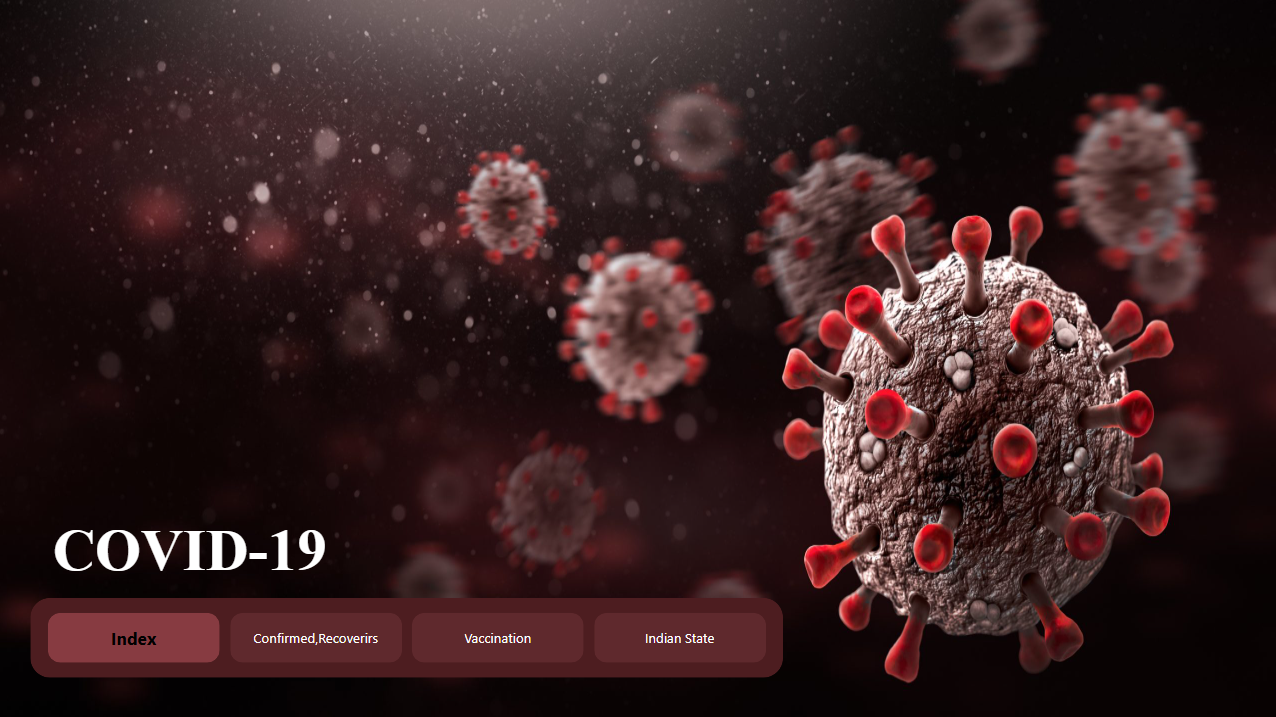

The dashboard page shown, as its layout file describes it:
{"tool":"powerbi","page":{"name":"Index","canvas":[1280,720],"ordinal":0},"visuals":[{"type":"shape","box":[31.4,598.6,752.9,80],"z":0},{"type":"pageNavigator","box":[48.6,614.3,721.4,50],"z":1000},{"type":"textbox","box":[48.6,514.3,377.1,84.3],"z":1001}]}

Visuals, with their boxes in screenshot pixels (x1, y1, x2, y2), scaled from the page's 1280x720 canvas onto the 1276x717 screenshot:
shape: detection(31, 596, 782, 676)
pageNavigator: detection(48, 612, 768, 662)
textbox: detection(48, 512, 424, 596)
